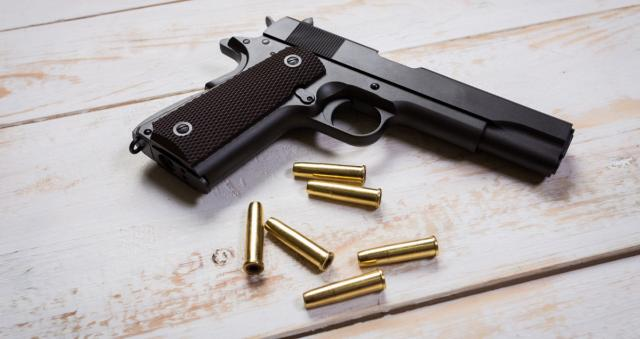handgun: (125, 9, 582, 201)
